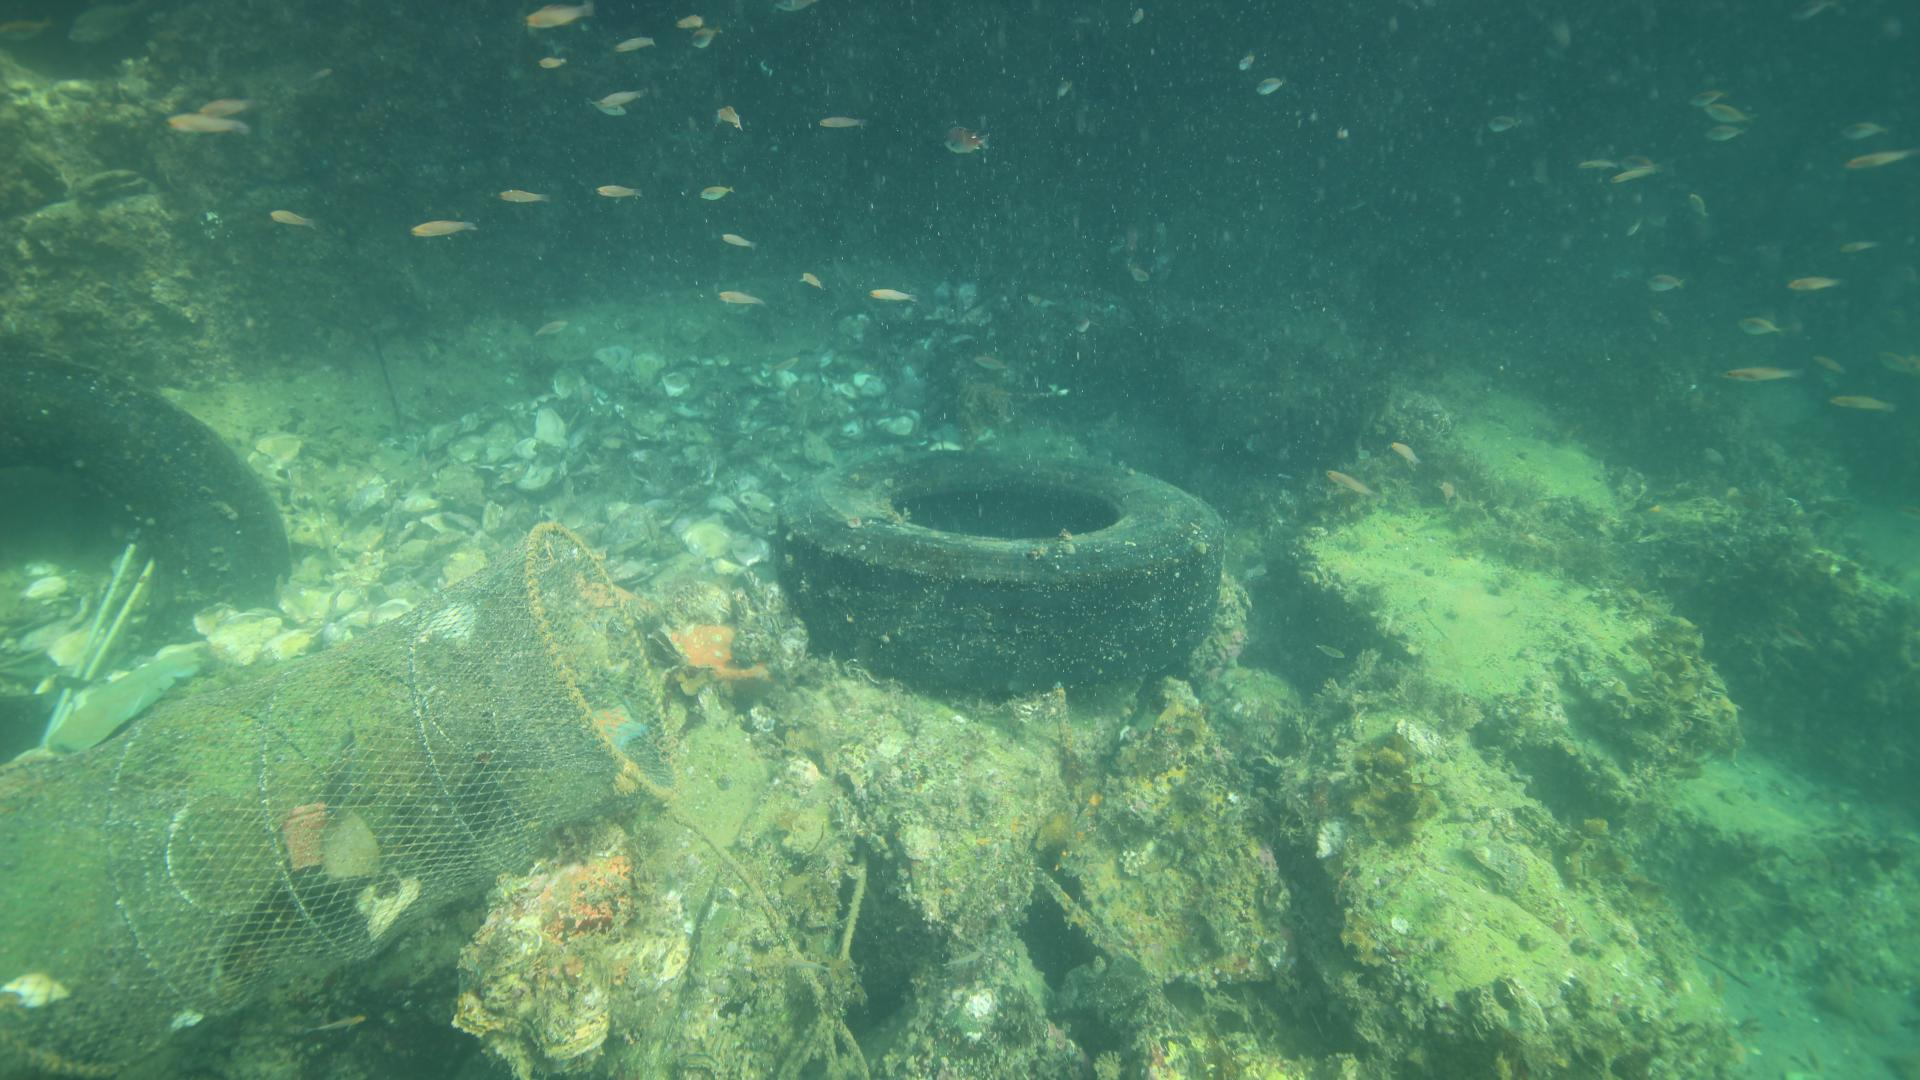bundle of ropes: (675, 814, 866, 1080)
spring fish trap: (0, 520, 683, 1080)
tire: (0, 355, 286, 766), (775, 447, 1226, 692)
